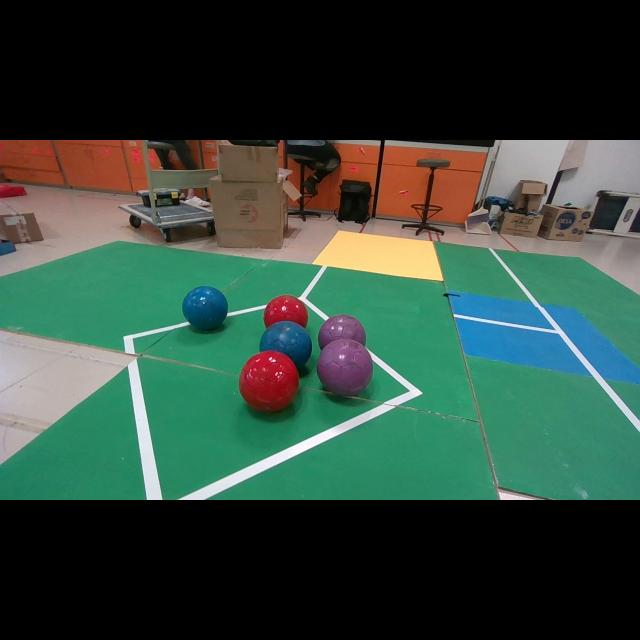B: (260, 321, 312, 368), (182, 286, 228, 330)
P: (318, 339, 372, 396), (318, 314, 366, 349)
R: (239, 350, 299, 412), (264, 295, 309, 328)
